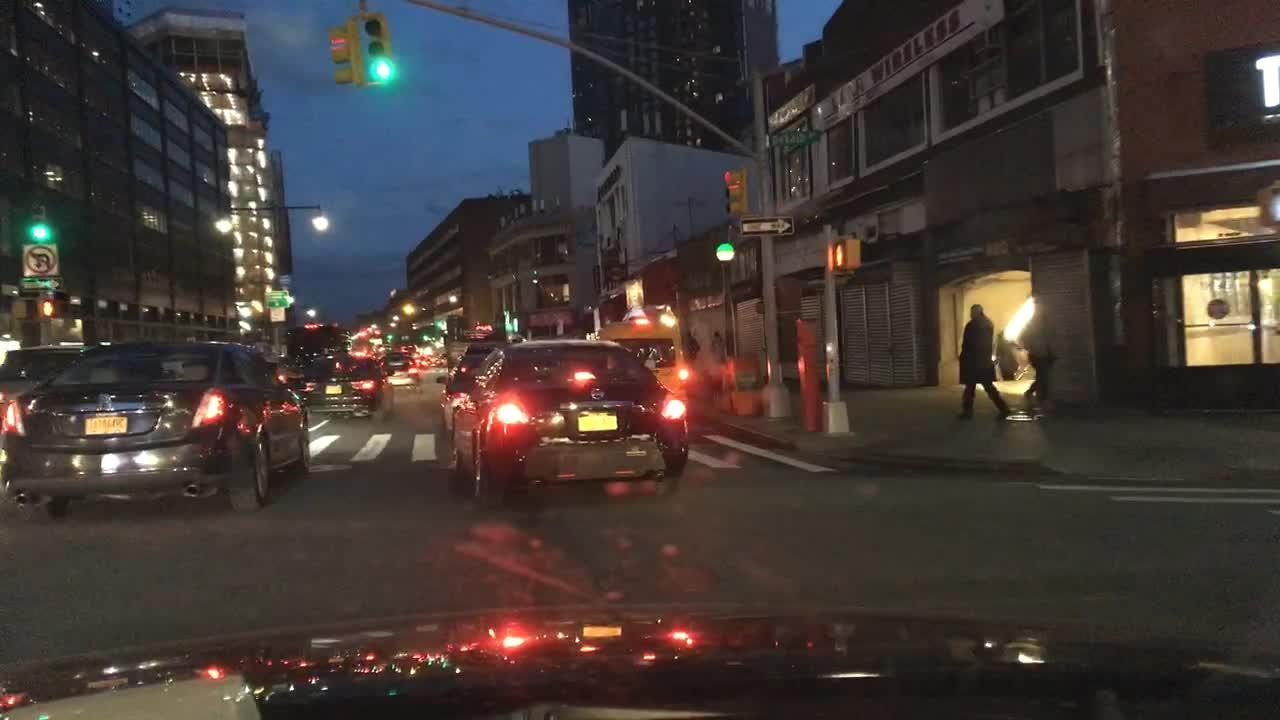Nissan: (583, 383, 613, 405)
